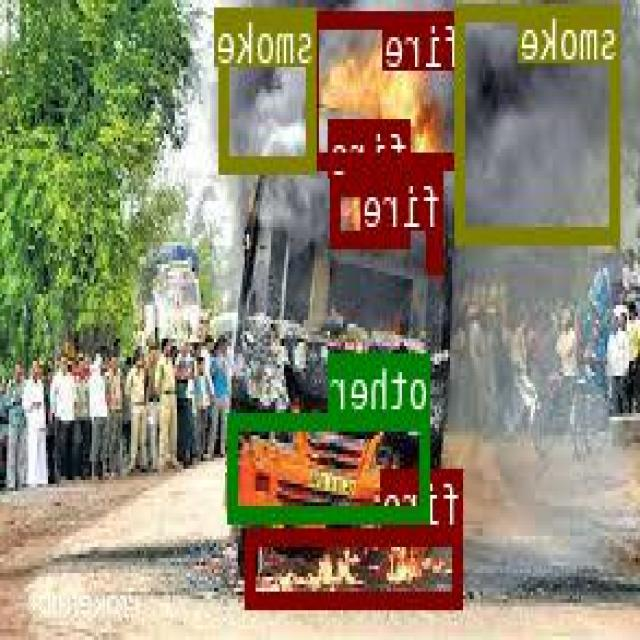fire: (311, 10, 466, 167), (247, 525, 464, 605), (334, 178, 412, 242), (428, 228, 446, 268)
other: (231, 410, 431, 519)
smoke: (458, 0, 622, 239), (222, 4, 318, 170)
